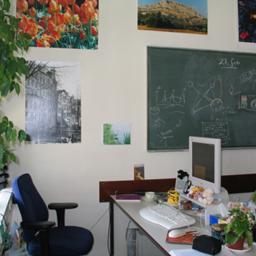Matera: (220, 208, 250, 250)
